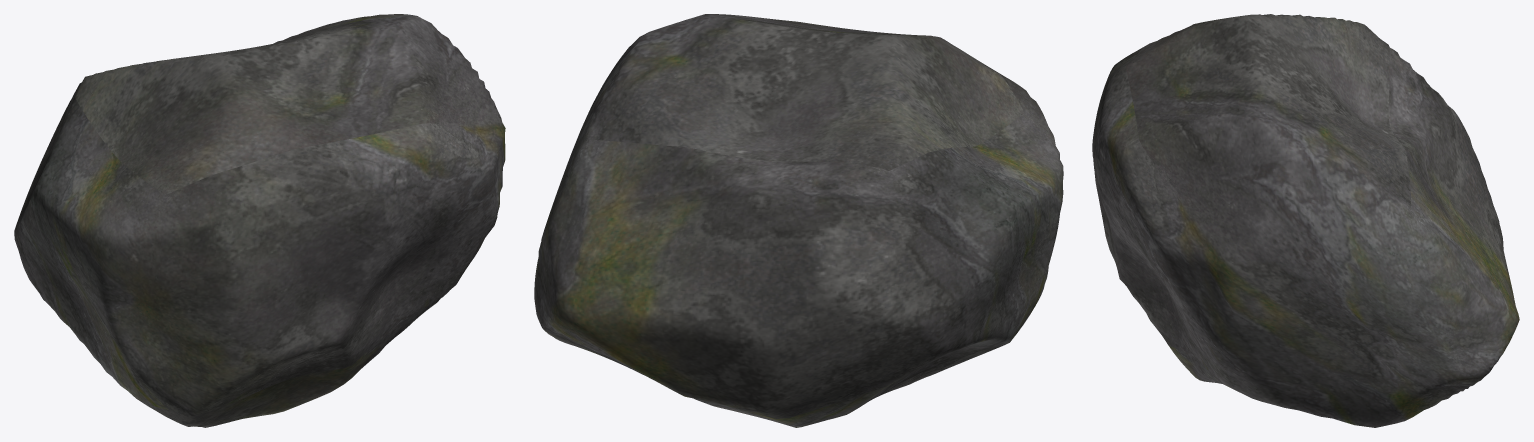
File: RockVariant1.fbx
The picture shows the model from 3 angles, left to right: view 1: azimuth 30°, elevation 25°; view 2: azimuth 150°, elevation 25°; view 3: azimuth 270°, elevation 25°; orthographic projection. The views are drawn at different scales.
Visible parts, largest first — view 1: Cube; view 2: Cube; view 3: Cube.
Part boxes in pixels (<box>): Cube: <box>14,14,505,427</box>; Cube: <box>534,14,1063,427</box>; Cube: <box>1092,14,1519,427</box>.
Bounding box in the file's own units: 224 × 178 × 198.
1 material, 1 textured.
